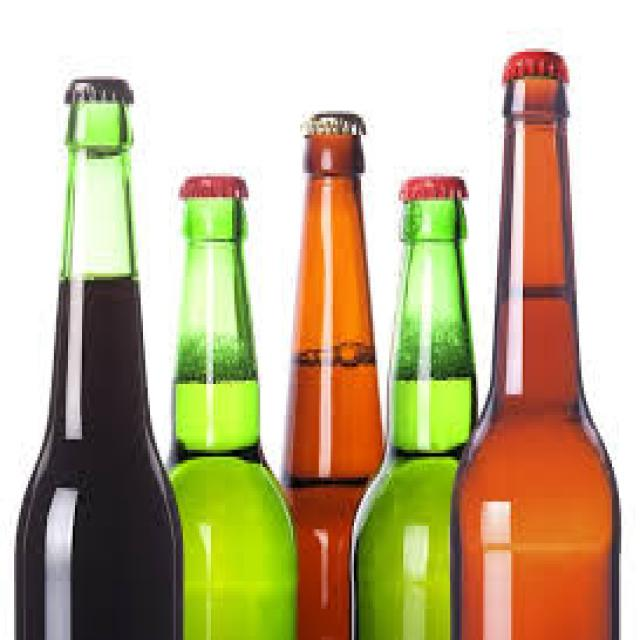glass: (448, 73, 619, 637), (17, 97, 179, 636), (157, 194, 293, 637), (347, 197, 476, 637), (279, 132, 382, 637)
metal: (502, 45, 565, 73), (394, 173, 464, 194), (61, 76, 131, 97), (178, 170, 246, 191), (298, 107, 361, 128)
